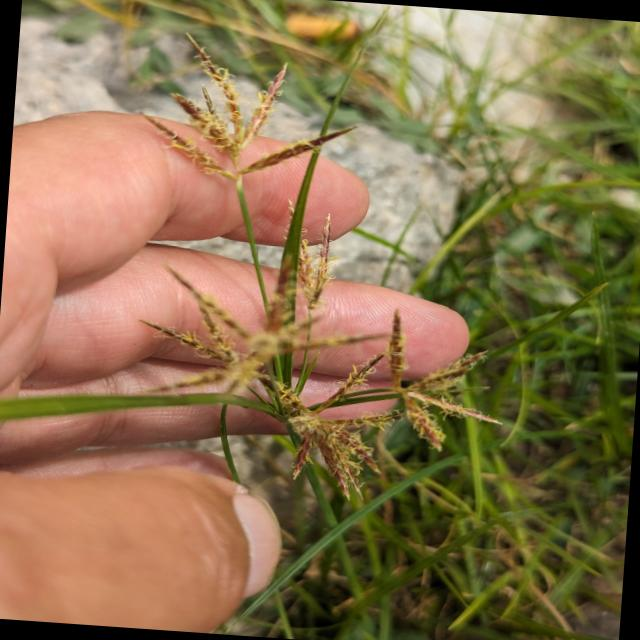cyperus: (108, 36, 520, 502)
